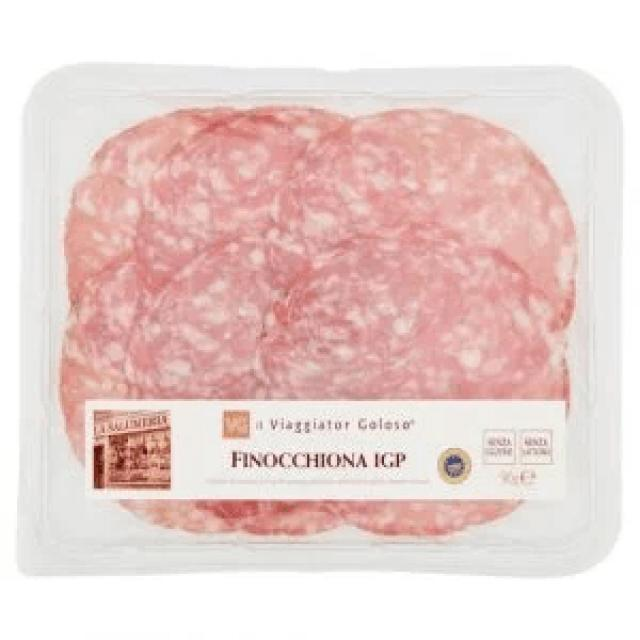Ham: (17, 64, 625, 580)
